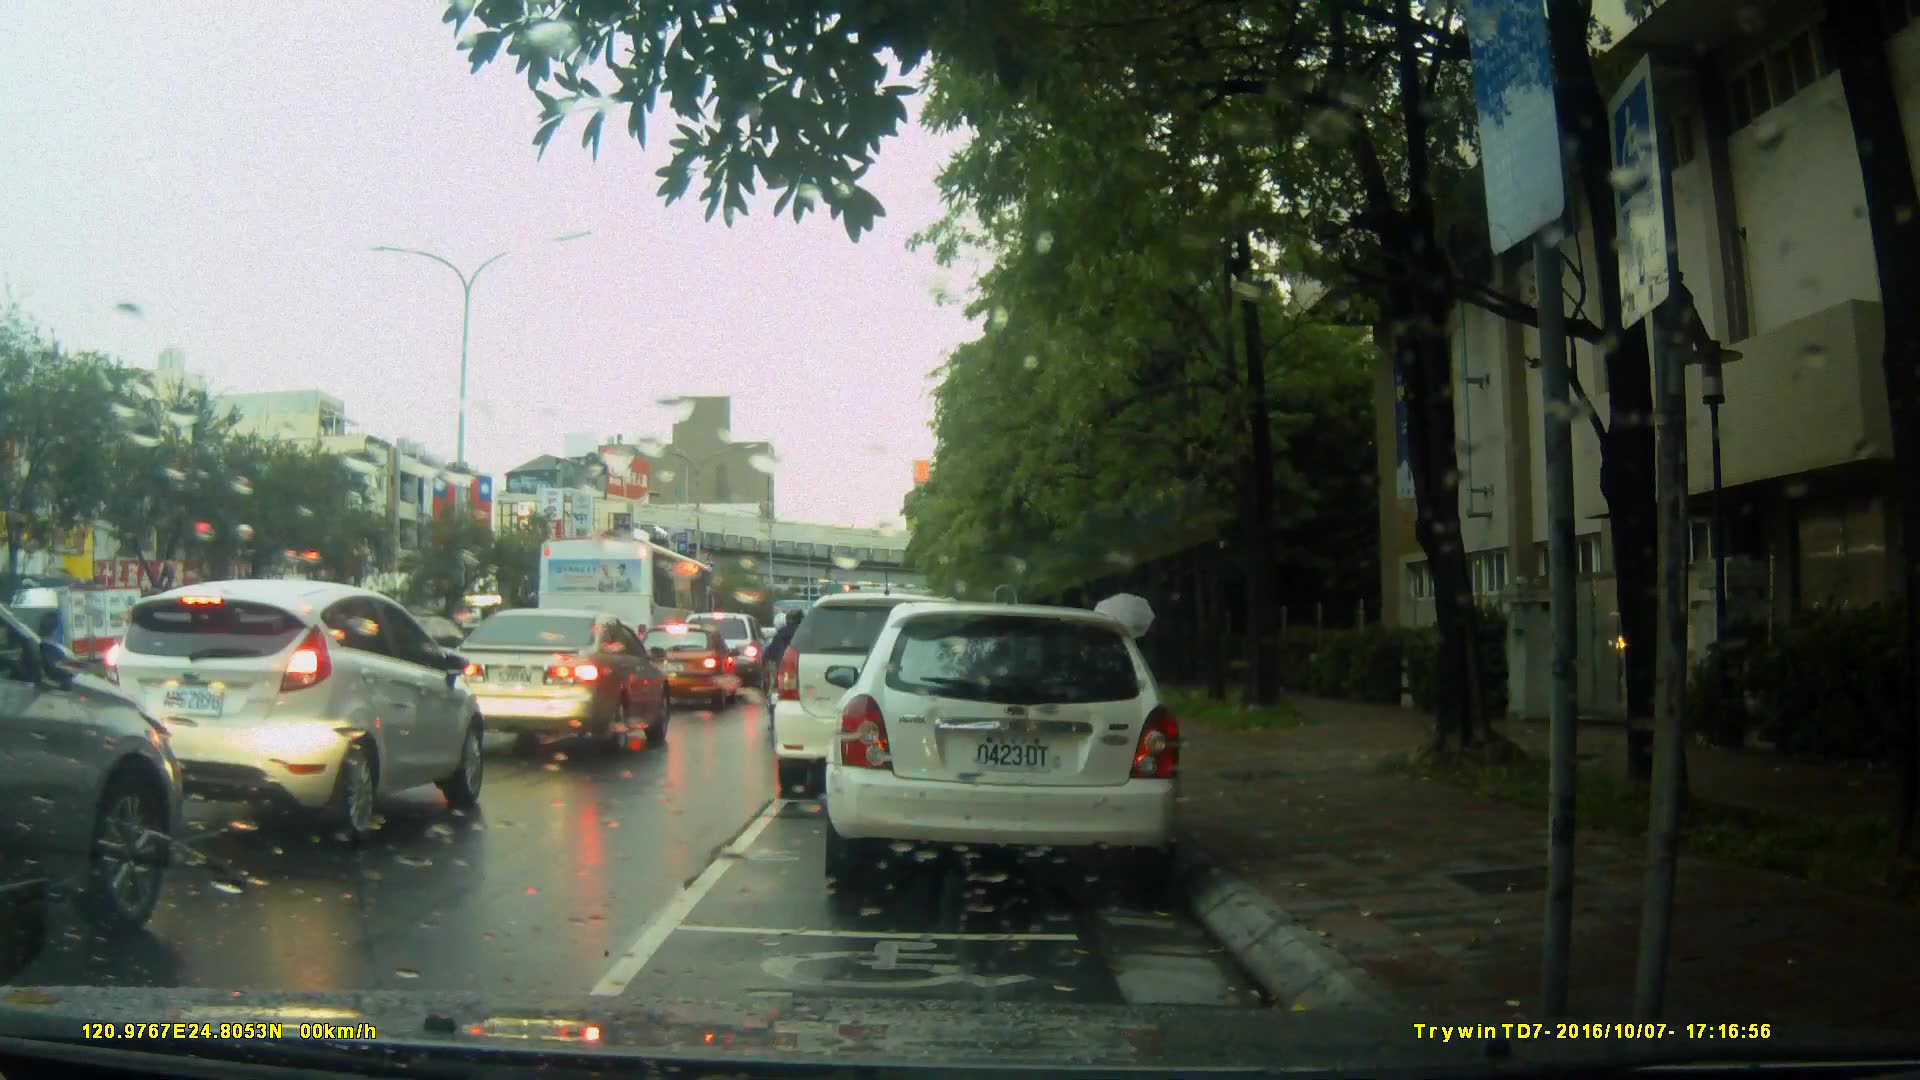rider: (764, 601, 814, 741)
vehicle: (835, 594, 1194, 898), (101, 578, 489, 845), (1, 547, 184, 971), (776, 590, 1026, 784), (448, 606, 675, 757), (536, 534, 722, 670), (1, 586, 154, 697), (631, 623, 740, 712)
